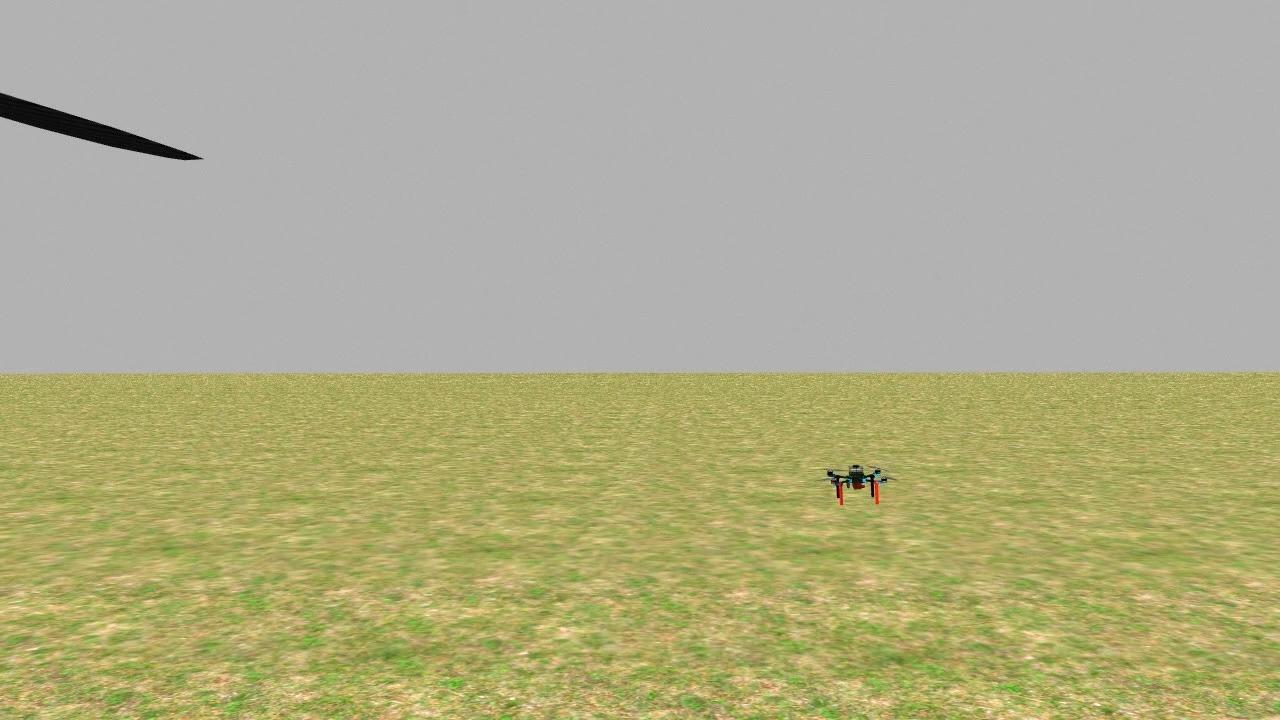UAV: (806, 440, 908, 514)
